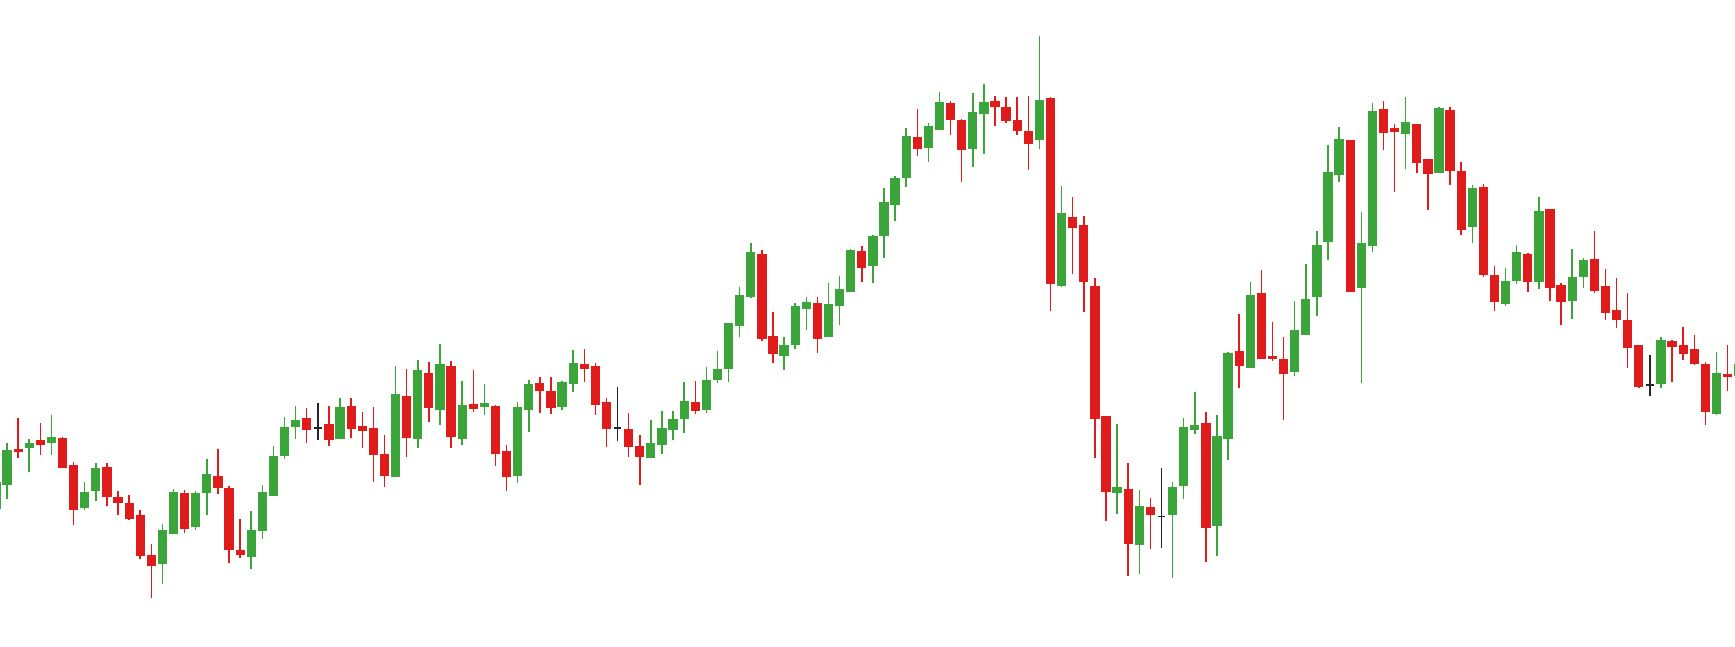buy: (378, 413, 524, 490), (1236, 312, 1300, 420)
sell: (978, 40, 1046, 148)
